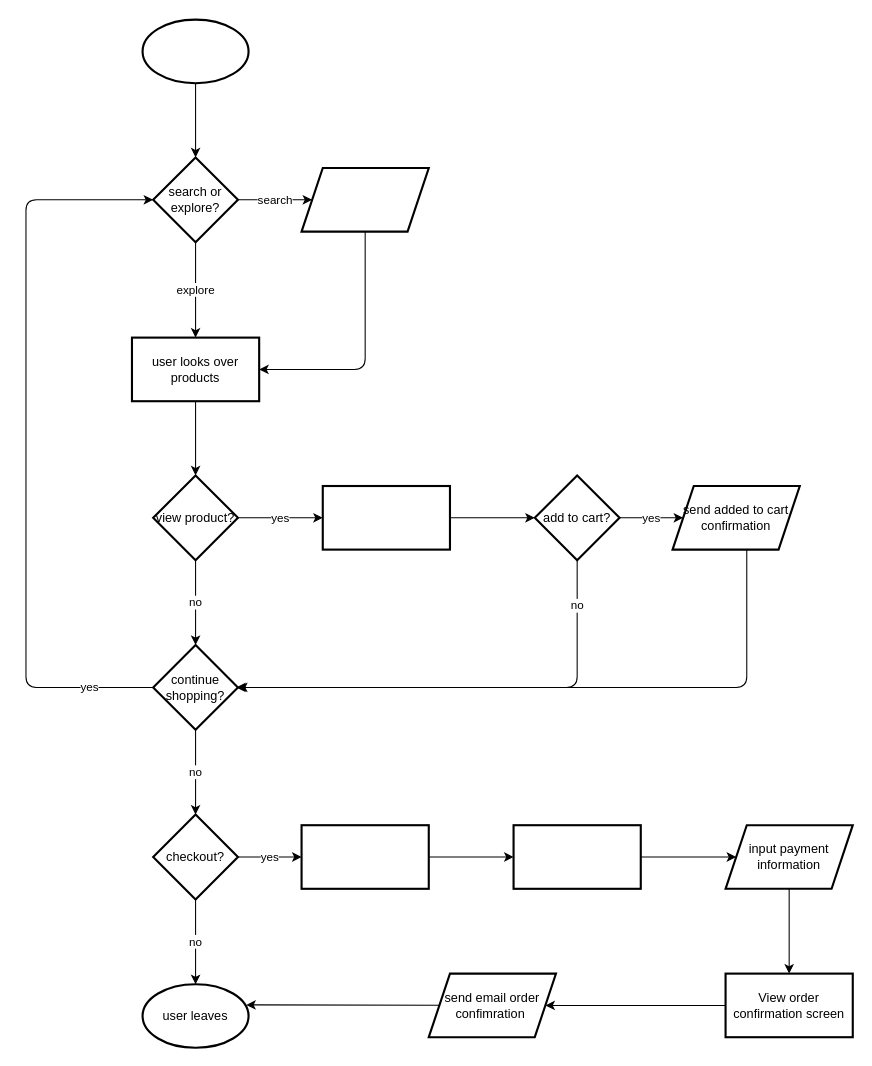
Image size: 872x1066. Some labels were removed from this diagram. Here are the shapes that lost their labels. From the top down, the centre of each, then its label:
[195,51]: user enters
[364,199]: input search
[385,517]: product's webpage opens
[364,856]: View Cart screen
[576,856]: View Payment Screen
